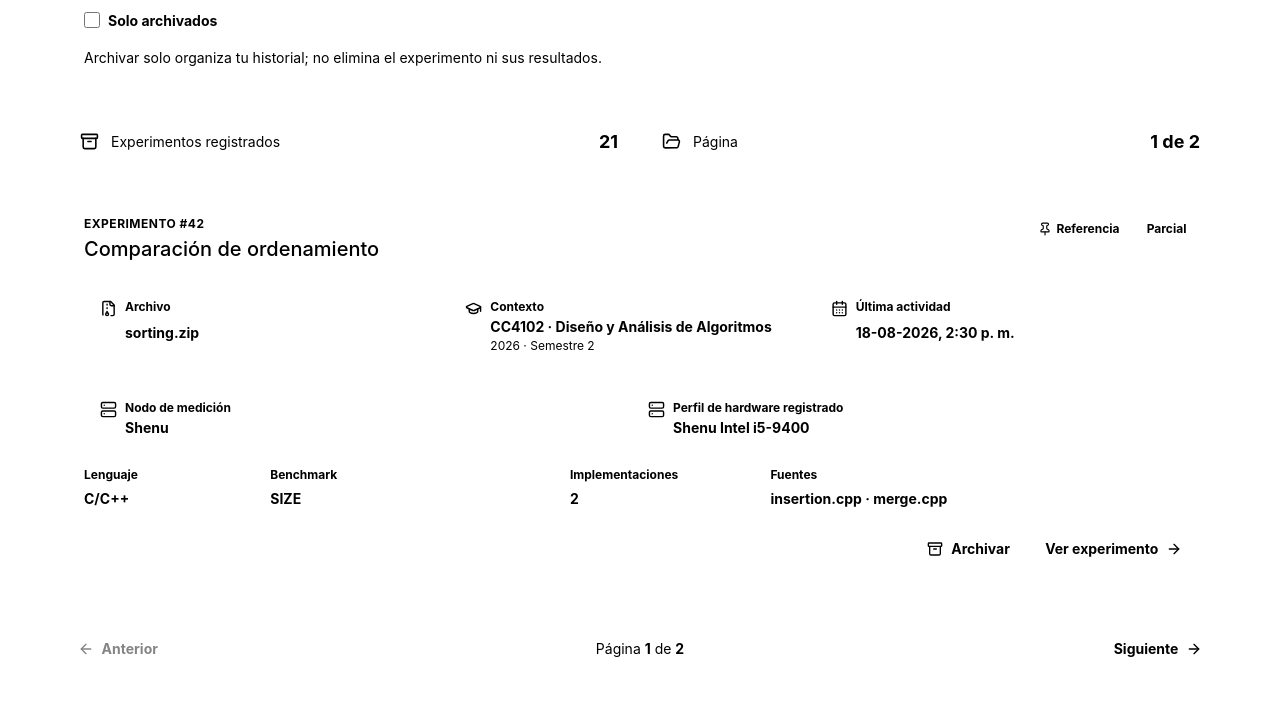
Scenario: HistoryPage › moves to the next page without client-side history filtering
The image size is (1280, 720).
(page scrolled)
Check: the heading "Comparación de ordenamiento" is shown, box [84, 237, 379, 262]
Click the button "Siguiente" at (1158, 649), box [1100, 629, 1216, 669]
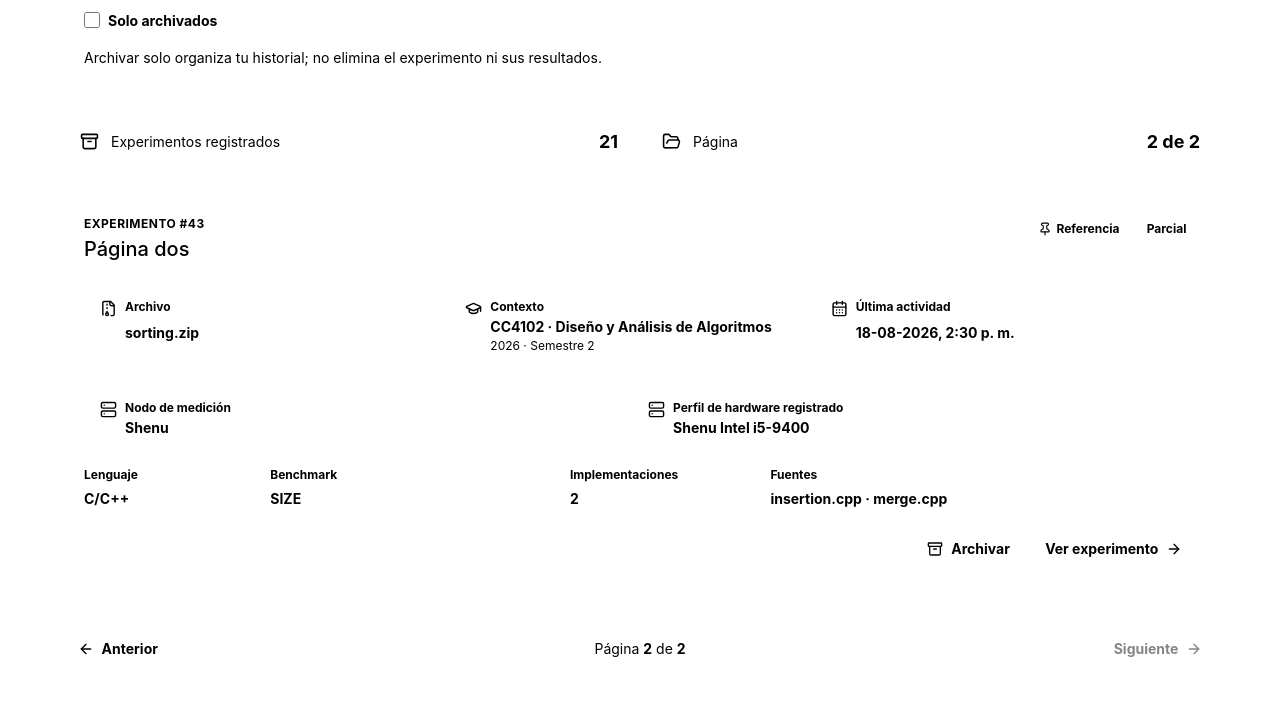
Check: the heading "Página dos" is shown, box [84, 237, 205, 262]
